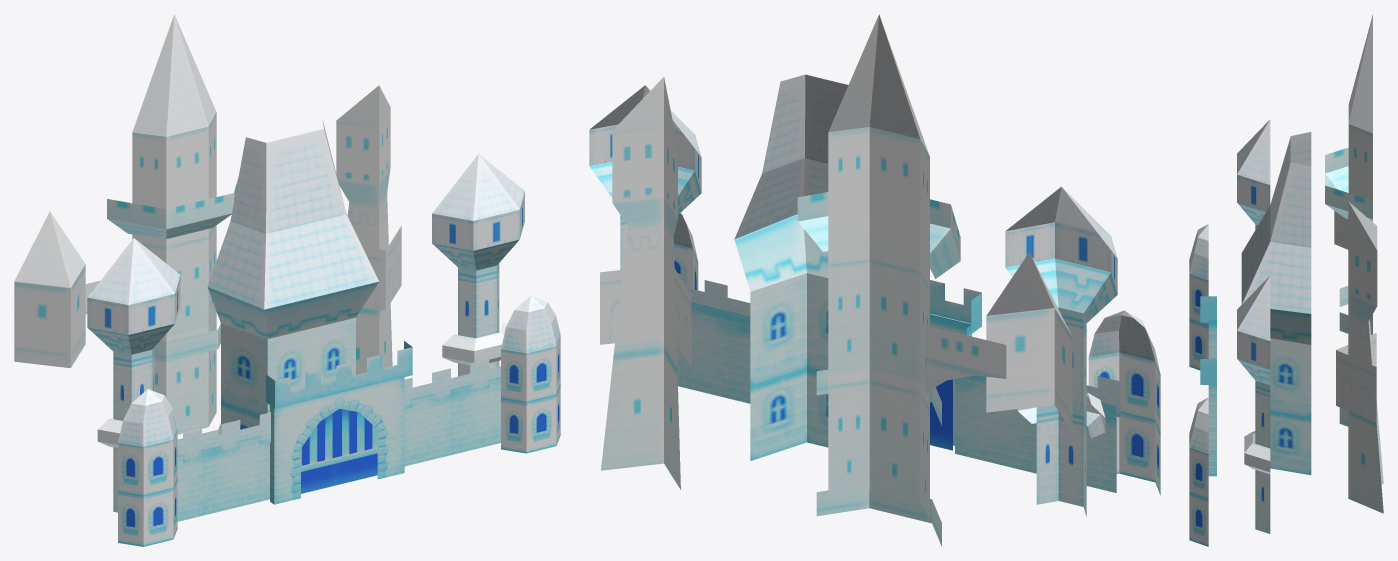
The model's file is Catsle_Lv04.fbx.
3 views of the same model, side by side, from view 1: azimuth 30°, elevation 25°; view 2: azimuth 150°, elevation 25°; view 3: azimuth 270°, elevation 25° (orthographic). The views are drawn at different scales.
Parts seen in each view (by area): view 1: Cat_Lv04; view 2: Cat_Lv04; view 3: Cat_Lv04.
Boxes of the visible parts, left/top/right/bottom form: Cat_Lv04: left=14, top=14, right=560, bottom=546; Cat_Lv04: left=589, top=14, right=1160, bottom=546; Cat_Lv04: left=1189, top=14, right=1383, bottom=546.
Size of the model in its own units: 1196 by 1070 by 474.
